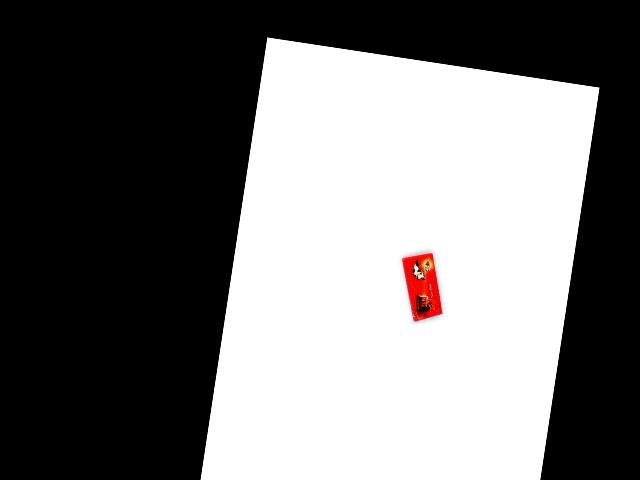chocolate: (393, 250, 451, 326)
